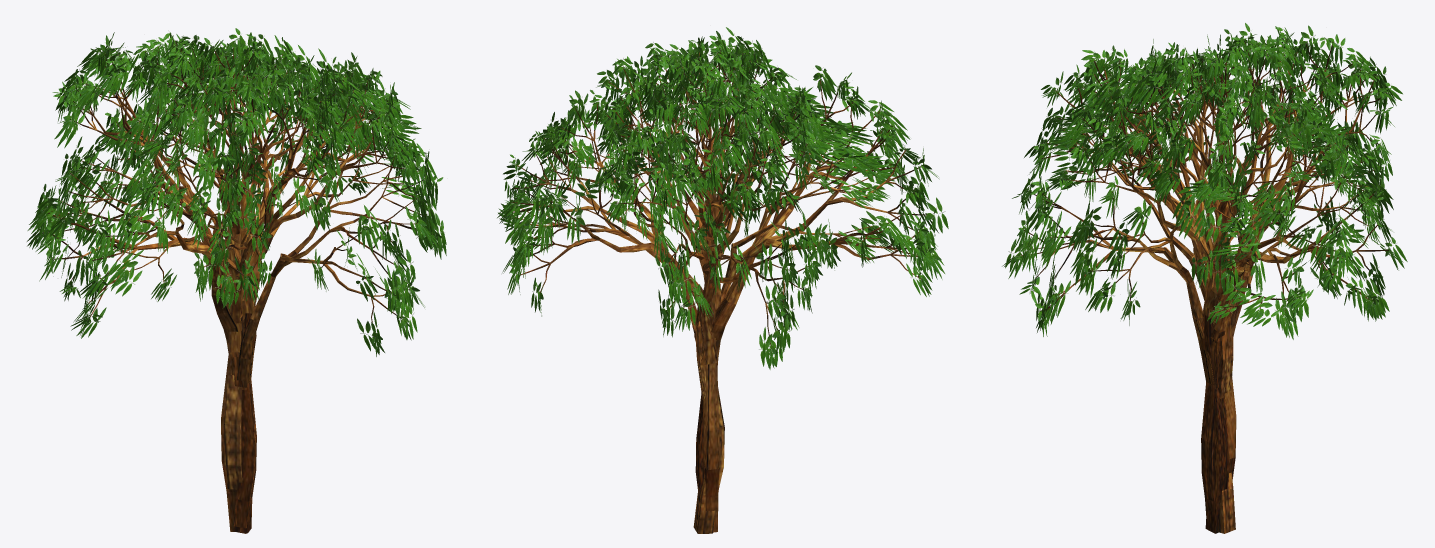
Rendered from tree.obj.
3 views of the same model, side by side, from view 1: azimuth 30°, elevation 25°; view 2: azimuth 150°, elevation 25°; view 3: azimuth 270°, elevation 25° (orthographic). The views are drawn at different scales.
Visible parts, largest first — view 1: tree; view 2: tree; view 3: tree.
Boxes of the visible parts, x1,y1,x2,y2 form: tree: (27,28,446,533); tree: (497,27,948,533); tree: (1002,23,1407,533).
Bounding box in the file's own units: 74.61 × 81.3 × 63.25.
